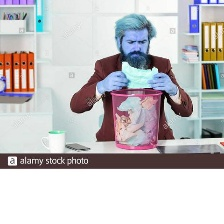book: (112, 91, 162, 146), (116, 59, 165, 87), (18, 47, 33, 92), (199, 95, 224, 119), (2, 50, 16, 92), (198, 18, 211, 62), (207, 18, 218, 62), (185, 2, 199, 34), (32, 0, 45, 34), (179, 42, 199, 63), (10, 50, 20, 92), (213, 21, 223, 60), (28, 47, 36, 91), (205, 63, 215, 91), (207, 62, 217, 89), (213, 61, 222, 90), (0, 46, 5, 93), (204, 124, 222, 137), (200, 63, 208, 91), (203, 62, 211, 90), (200, 127, 212, 140)
glass: (39, 126, 67, 154)
phone: (64, 141, 92, 152)
